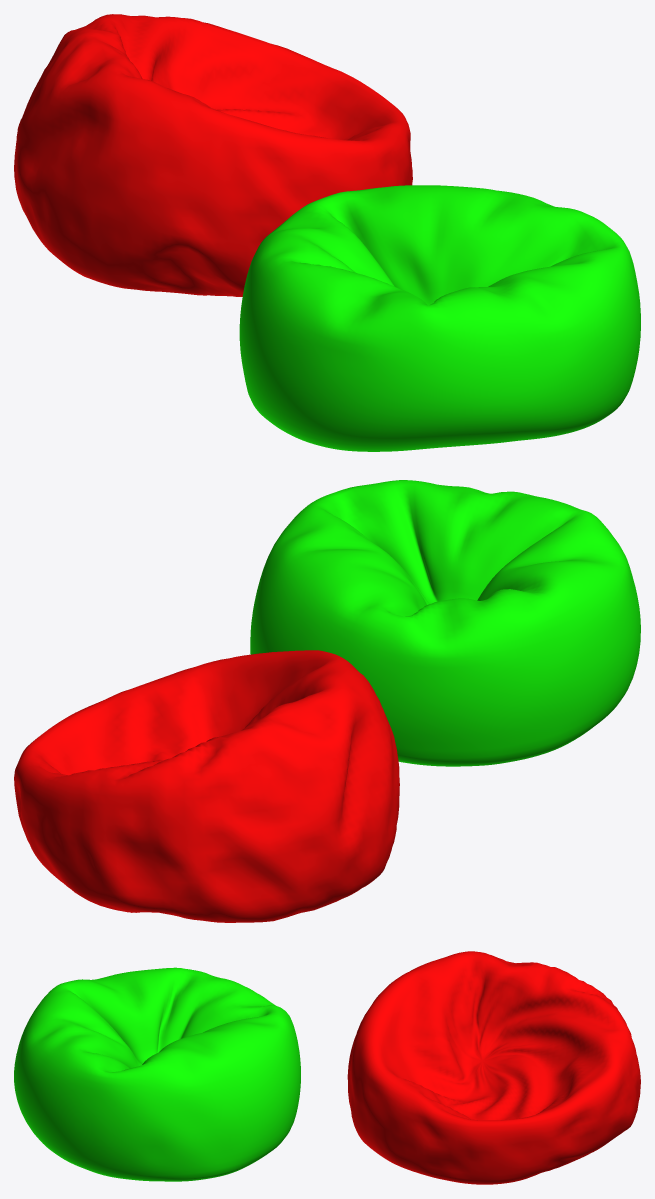
The model's file is bean_bag.fbx.
3 renders of one model, top to bottom at view 1: azimuth 30°, elevation 25°; view 2: azimuth 150°, elevation 25°; view 3: azimuth 270°, elevation 25°, orthographic. The views are drawn at different scales.
Parts seen in each view (by area): view 1: bean_bag2, bean_bag; view 2: bean_bag, bean_bag2; view 3: bean_bag, bean_bag2.
Part boxes in pixels (bbox=[...]): bean_bag2: bbox=[239, 185, 640, 451]; bean_bag: bbox=[14, 14, 412, 296]; bean_bag: bbox=[14, 650, 399, 922]; bean_bag2: bbox=[250, 480, 640, 766]; bean_bag: bbox=[347, 951, 640, 1184]; bean_bag2: bbox=[14, 967, 300, 1181].
Bounding box in the file's own units: 206 × 112 × 436.
